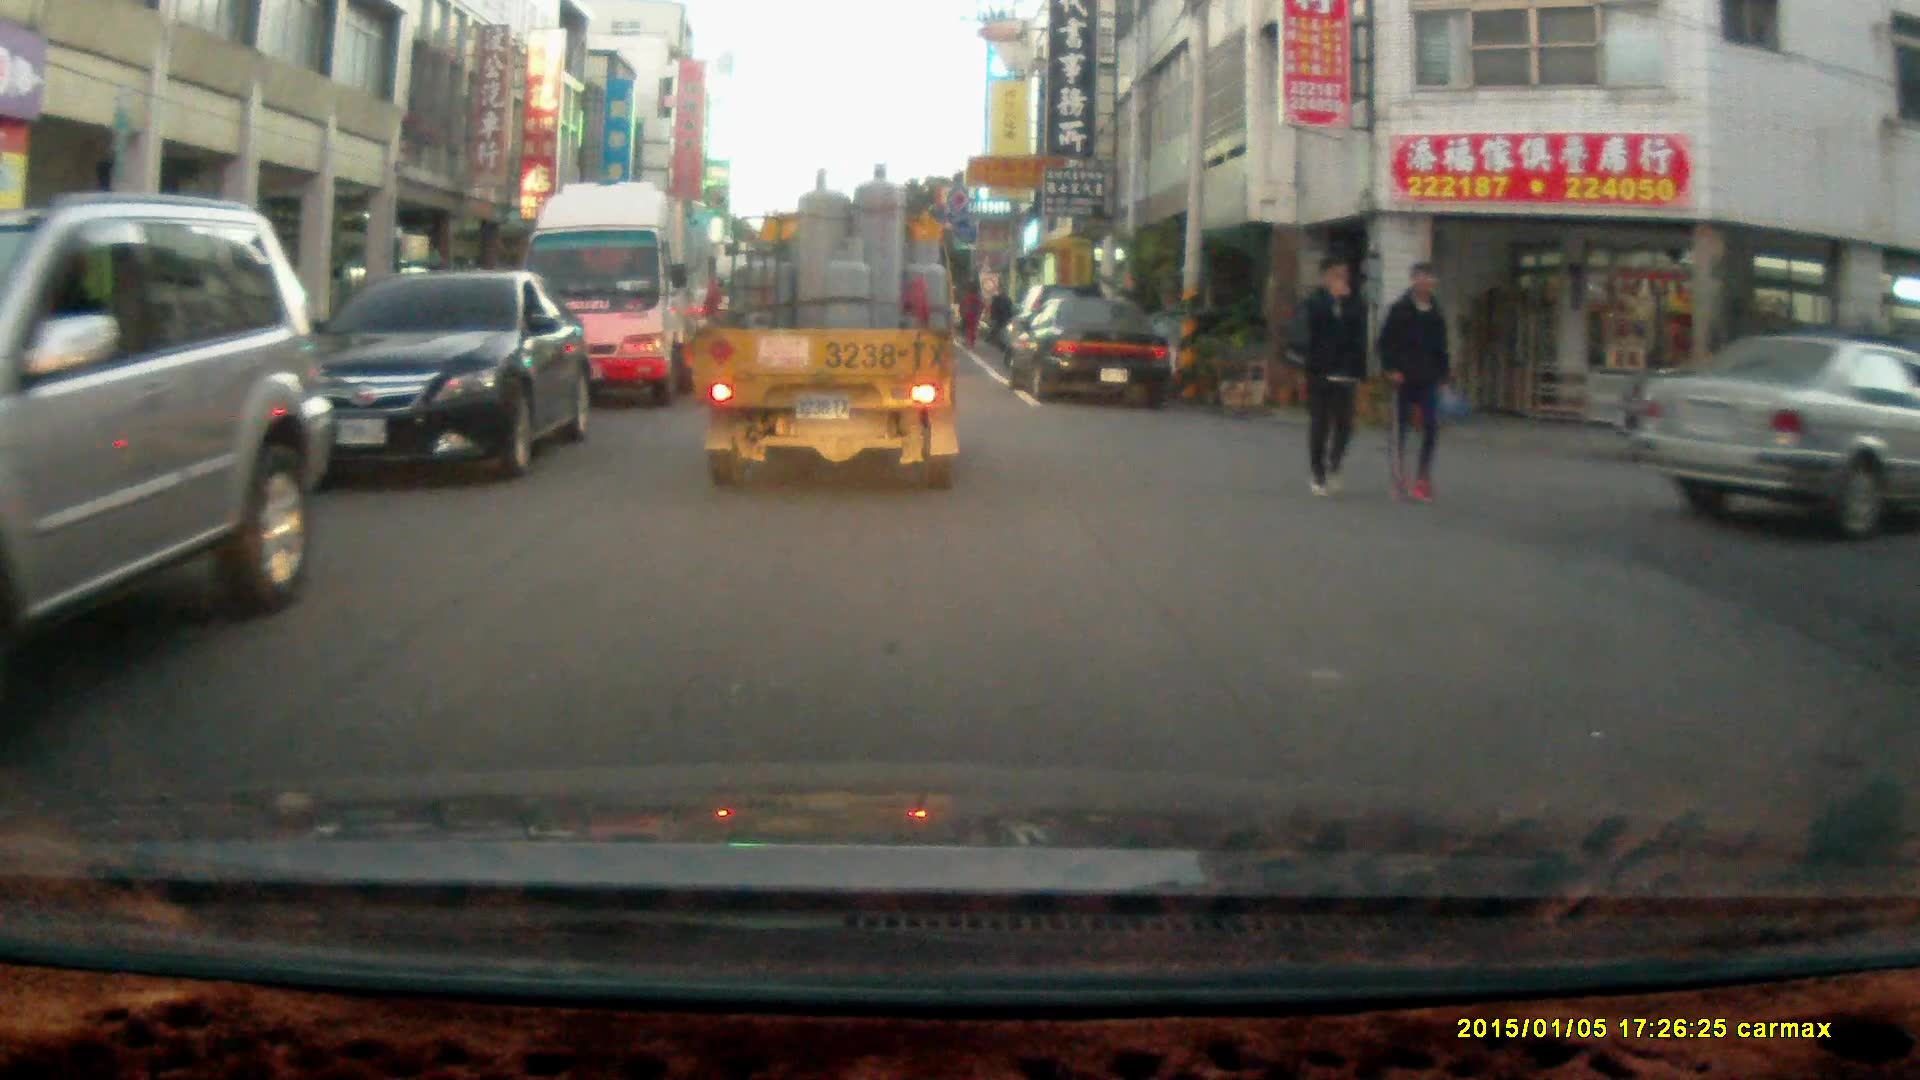pedestrian: (1375, 261, 1457, 510), (1299, 255, 1369, 502), (986, 281, 1015, 353), (957, 280, 982, 351)
vehicle: (1, 192, 341, 757), (696, 164, 967, 496), (250, 269, 599, 482), (1638, 337, 1920, 536), (516, 176, 713, 410), (1001, 295, 1175, 406)
